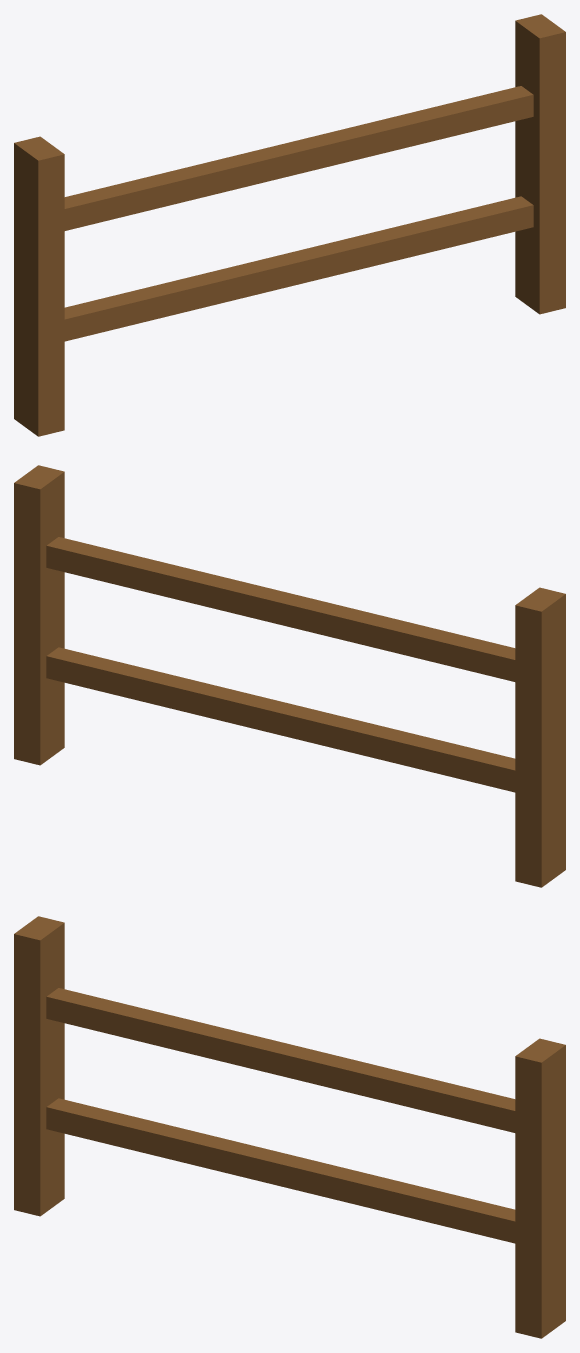
Rendered from fence.obj.
3 views of the same model, one above another, from view 1: azimuth 30°, elevation 25°; view 2: azimuth 150°, elevation 25°; view 3: azimuth 330°, elevation 25° (orthographic).
Parts seen in each view (by area): view 1: rail_low, rail_top, post1, post2; view 2: rail_top, rail_low, post1, post2; view 3: rail_low, rail_top, post2, post1.
Part boxes in pixels (x1,y1,x2,y2): rail_low: (20, 196, 533, 343); rail_top: (20, 86, 533, 238); post1: (14, 136, 64, 436); post2: (515, 14, 565, 314); rail_top: (46, 537, 559, 685); rail_low: (46, 647, 559, 794); post1: (515, 587, 565, 887); post2: (14, 465, 64, 765); rail_low: (46, 1098, 559, 1244); rail_top: (46, 988, 559, 1134); post2: (515, 1038, 565, 1338); post1: (14, 916, 64, 1216).
Bounding box in the file's own units: 2 × 1 × 0.16.
